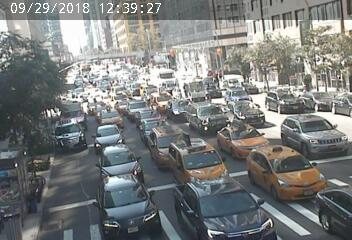car: (184, 189, 266, 237), (102, 178, 158, 218), (260, 146, 306, 182), (94, 145, 144, 173), (175, 156, 227, 180), (291, 122, 330, 151), (224, 122, 258, 149), (194, 104, 224, 134), (57, 124, 84, 153), (321, 184, 347, 210), (269, 94, 297, 113), (97, 127, 123, 144), (100, 108, 122, 125), (157, 134, 179, 150), (154, 94, 175, 110), (171, 99, 190, 116), (304, 92, 327, 106), (223, 75, 243, 90), (139, 119, 161, 132), (62, 107, 81, 121), (185, 80, 203, 94), (152, 71, 168, 86), (231, 101, 249, 112), (110, 94, 126, 106), (339, 94, 352, 107), (127, 100, 144, 109), (139, 111, 157, 119), (204, 81, 216, 92), (226, 89, 241, 97), (139, 86, 150, 89), (110, 88, 121, 89)
